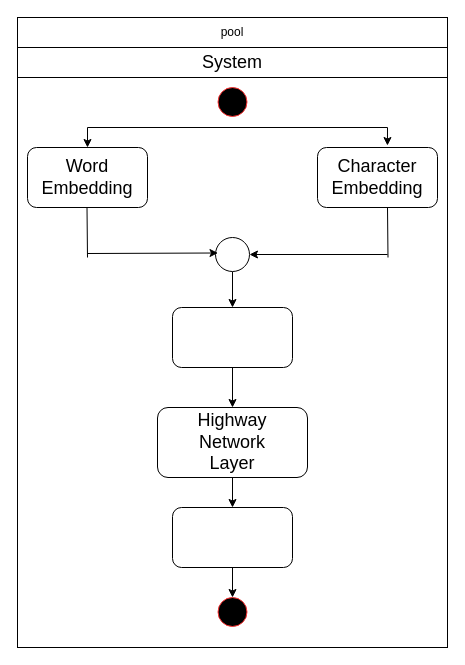
This 465x665 diagram has some shape labels left out. The shapes that lost their labels are listed below. From the top down, each one's centre as x and y in pixels, then its label:
At pixel 232 337: "Concatenate".
At pixel 232 537: "Contexual Embedding".
